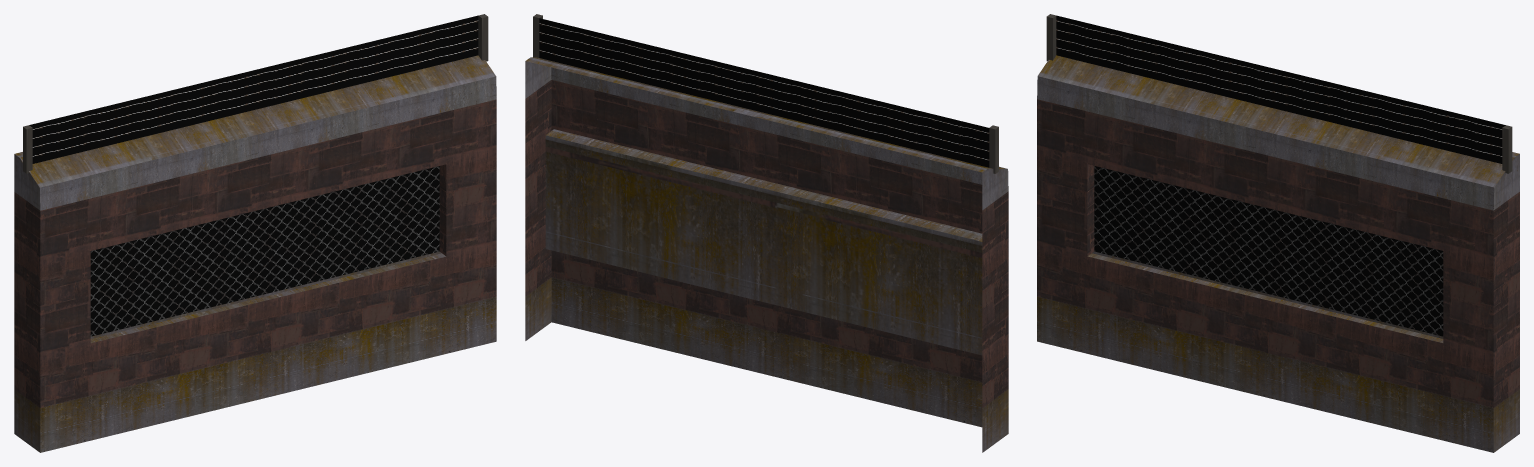
File: Wall C Barbed.fbx
3 renders of one model, left to right at view 1: azimuth 30°, elevation 25°; view 2: azimuth 150°, elevation 25°; view 3: azimuth 330°, elevation 25°, orthographic.
Visible parts, largest first — view 1: Cube.012, Cube.061, Cube.059; view 2: Cube.012, Cube.059; view 3: Cube.012, Cube.061, Cube.059.
Boxes of the visible parts, x1=… form: Cube.012: x1=14, y1=55, x2=496, y2=452; Cube.061: x1=90, y1=166, x2=439, y2=336; Cube.059: x1=23, y1=14, x2=488, y2=173; Cube.012: x1=525, y1=57, x2=1008, y2=452; Cube.059: x1=533, y1=14, x2=998, y2=173; Cube.012: x1=1037, y1=55, x2=1519, y2=452; Cube.061: x1=1094, y1=166, x2=1443, y2=336; Cube.059: x1=1046, y1=14, x2=1512, y2=173.
Bounding box in the file's own units: 2043 × 1335 × 200.
